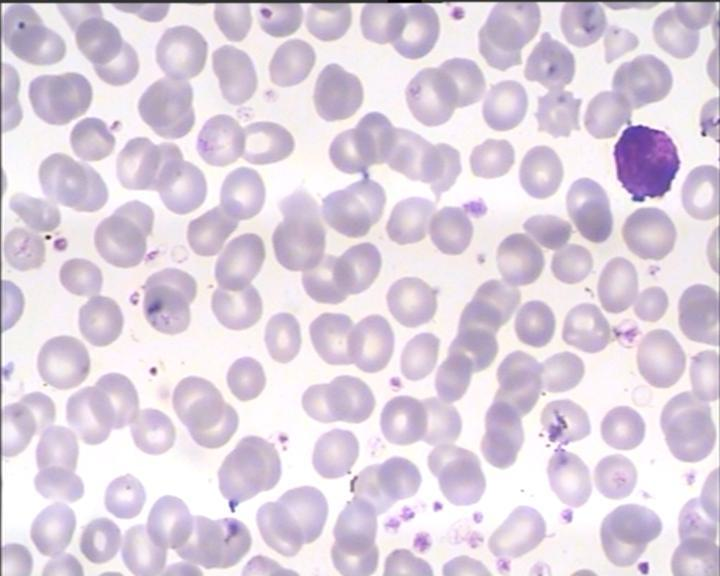baso: (609, 119, 686, 206)
